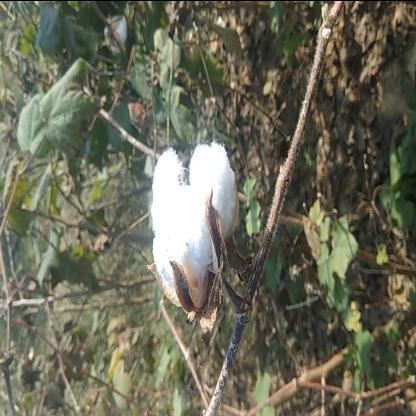cotton_ready: (143, 126, 274, 342)
